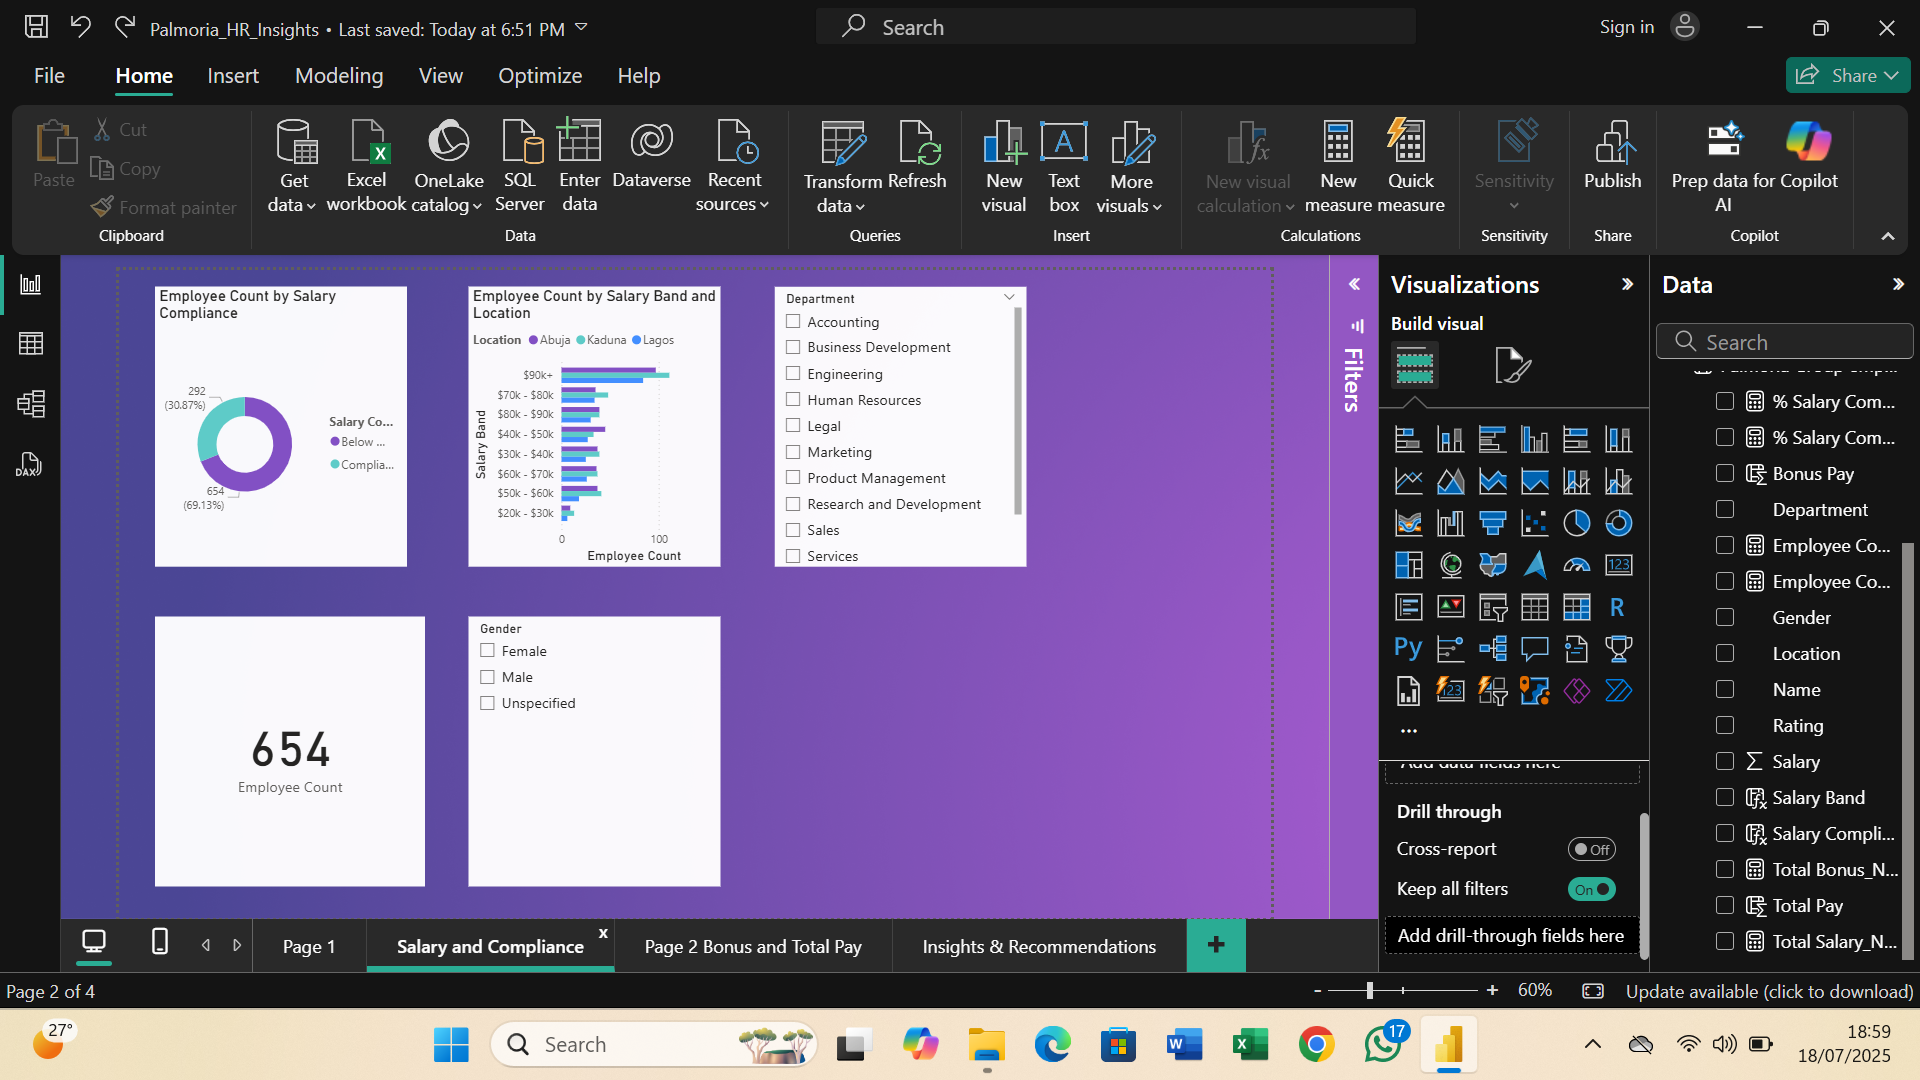

The page's visual inventory and layout, read from the dashboard file:
{"tool":"powerbi","page":{"name":"Salary and Compliance","canvas":[1280,720],"ordinal":1},"visuals":[{"type":"donutChart","fields":{"Category":["Palmoria Group emp-data (1).Salary Compliance"],"Y":["Palmoria Group emp-data (1).Employee Count"]},"box":[39.8,18.2,279.9,311.4],"z":0},{"type":"card","fields":{"Values":["Palmoria Group emp-data (1).Employee Count"]},"box":[39.8,384.3,299.8,299.8],"z":1000},{"type":"clusteredBarChart","fields":{"Category":["Palmoria Group emp-data (1).Salary Band"],"Y":["Palmoria Group emp-data (1).Employee Count"],"Series":["Palmoria Group emp-data (1).Location"]},"box":[387.6,18.2,279.9,311.4],"z":2000},{"type":"slicer","fields":{"Values":["Palmoria Group emp-data (1).Gender"]},"box":[387.6,384.3,279.9,299.8],"z":3000},{"type":"slicer","fields":{"Values":["Palmoria Group emp-data (1).Department"]},"box":[728.9,18.2,279.9,311.4],"z":4000}]}

Visuals, with their boxes on the page's 1280x720 design canvas (x1, y1, x2, y2). These are canvas units, not pixel positions in the 1920x1080 screenshot, which may show the page scaled, cropped or inside an application window:
donutChart - Palmoria Group emp-data (1).Salary Compliance x Palmoria Group emp-data (1).Employee Count: {"left": 40, "top": 18, "right": 320, "bottom": 330}
card - Palmoria Group emp-data (1).Employee Count: {"left": 40, "top": 384, "right": 340, "bottom": 684}
clusteredBarChart - Palmoria Group emp-data (1).Salary Band x Palmoria Group emp-data (1).Employee Count: {"left": 388, "top": 18, "right": 668, "bottom": 330}
slicer - Palmoria Group emp-data (1).Gender: {"left": 388, "top": 384, "right": 668, "bottom": 684}
slicer - Palmoria Group emp-data (1).Department: {"left": 729, "top": 18, "right": 1009, "bottom": 330}
